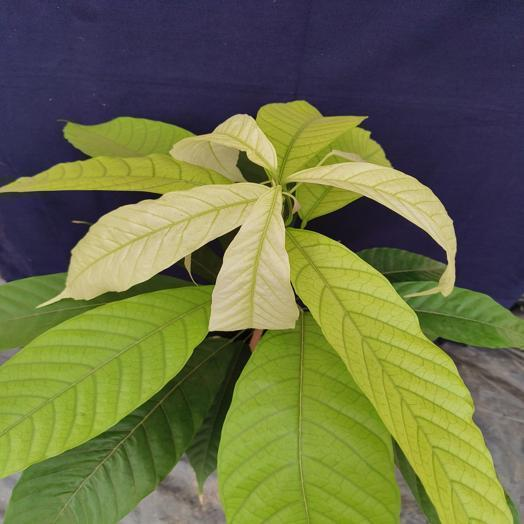Healthy Leaf: (4, 339, 225, 523), (0, 273, 187, 350), (186, 345, 250, 492), (395, 281, 523, 349), (358, 249, 444, 282)
Iron: (287, 229, 510, 523), (0, 287, 209, 474), (218, 312, 399, 523), (42, 183, 268, 304), (290, 162, 456, 293), (210, 186, 298, 330), (0, 154, 230, 193), (257, 101, 366, 180), (170, 114, 275, 180), (64, 117, 192, 156), (321, 127, 391, 166), (299, 186, 359, 218)
